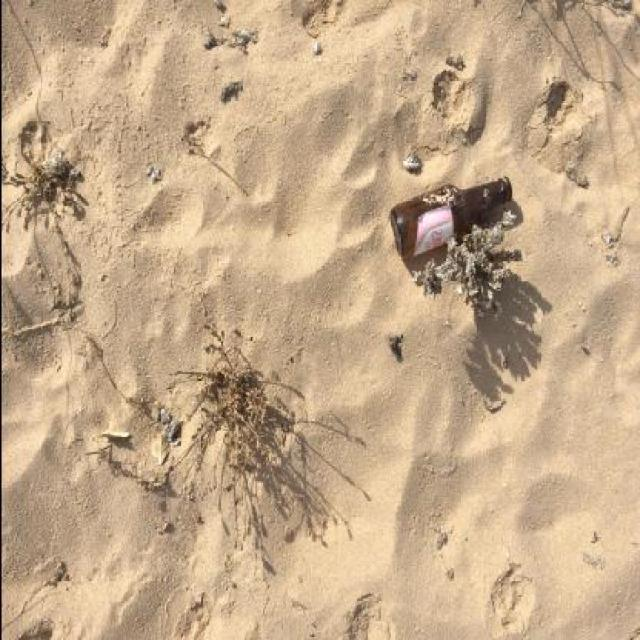glass: (388, 175, 512, 258)
